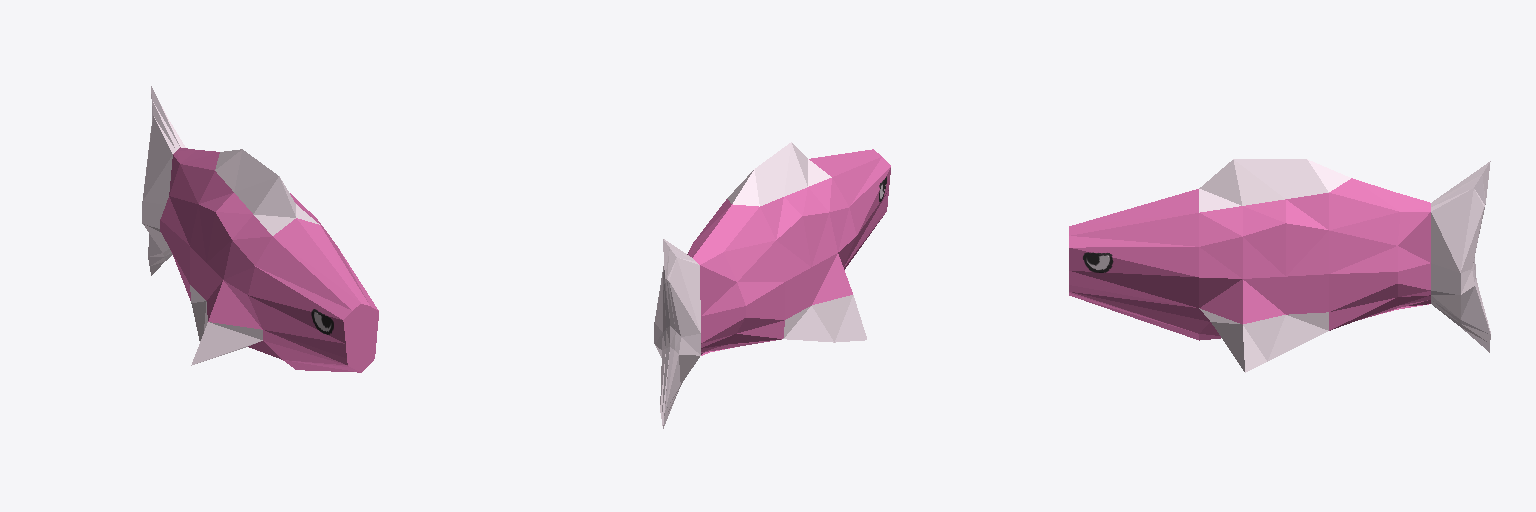
3 renders of one model, left to right at view 1: azimuth 30°, elevation 25°; view 2: azimuth 150°, elevation 25°; view 3: azimuth 270°, elevation 25°, orthographic.
Visible parts, largest first — view 1: 円柱; view 2: 円柱; view 3: 円柱.
Boxes of the visible parts, x1=… form: 円柱: x1=142, y1=86, x2=378, y2=372; 円柱: x1=654, y1=142, x2=890, y2=428; 円柱: x1=1069, y1=159, x2=1490, y2=372.
Size of the model in its own units: 1.33 by 1.49 by 2.94.
Materials: 1 (1 with a texture image).